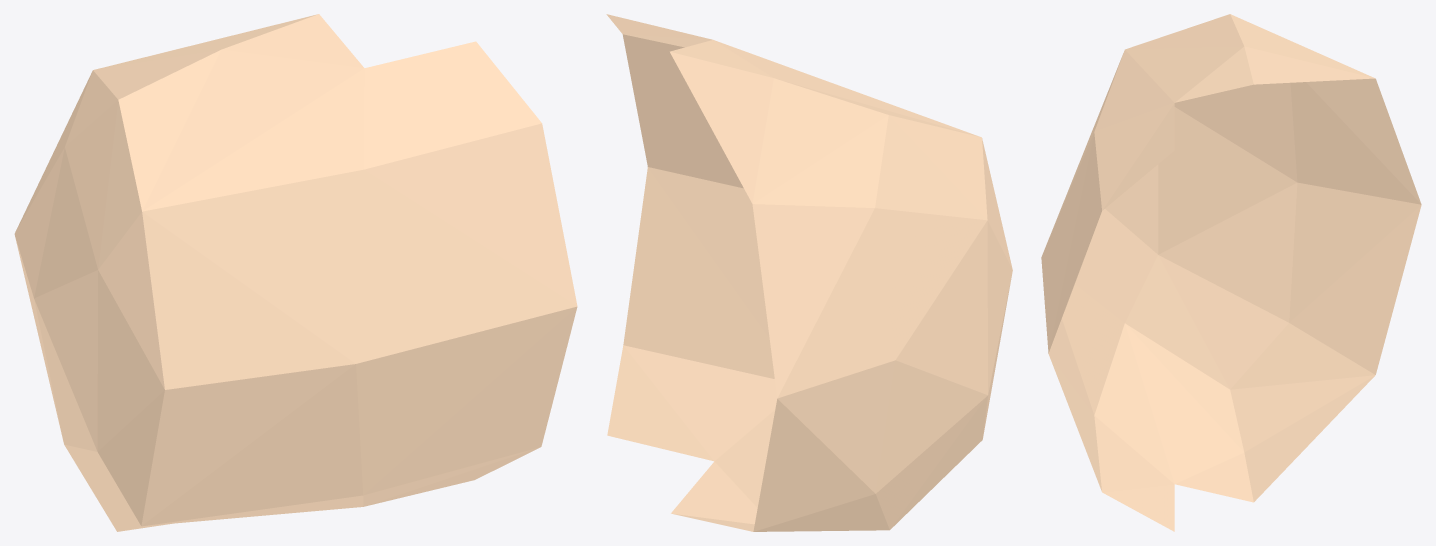
File: head6.glb
3 renders of one model, left to right at view 1: azimuth 30°, elevation 25°; view 2: azimuth 150°, elevation 25°; view 3: azimuth 270°, elevation 25°, orthographic. The views are drawn at different scales.
Visible parts, largest first — view 1: tomodachi-2026-03-06-18-14-26-728.007; view 2: tomodachi-2026-03-06-18-14-26-728.007; view 3: tomodachi-2026-03-06-18-14-26-728.007.
Part boxes in pixels (box(x1,y1,x2,y2)): tomodachi-2026-03-06-18-14-26-728.007: box(14, 14, 577, 531); tomodachi-2026-03-06-18-14-26-728.007: box(606, 14, 1012, 531); tomodachi-2026-03-06-18-14-26-728.007: box(1041, 14, 1421, 531).
Size of the model in its own units: 0.9448 by 1.04 by 0.8567.
Materials: 1 (1 with a texture image).
